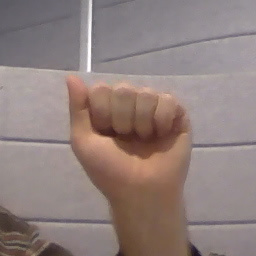A: (63, 74, 196, 190)
